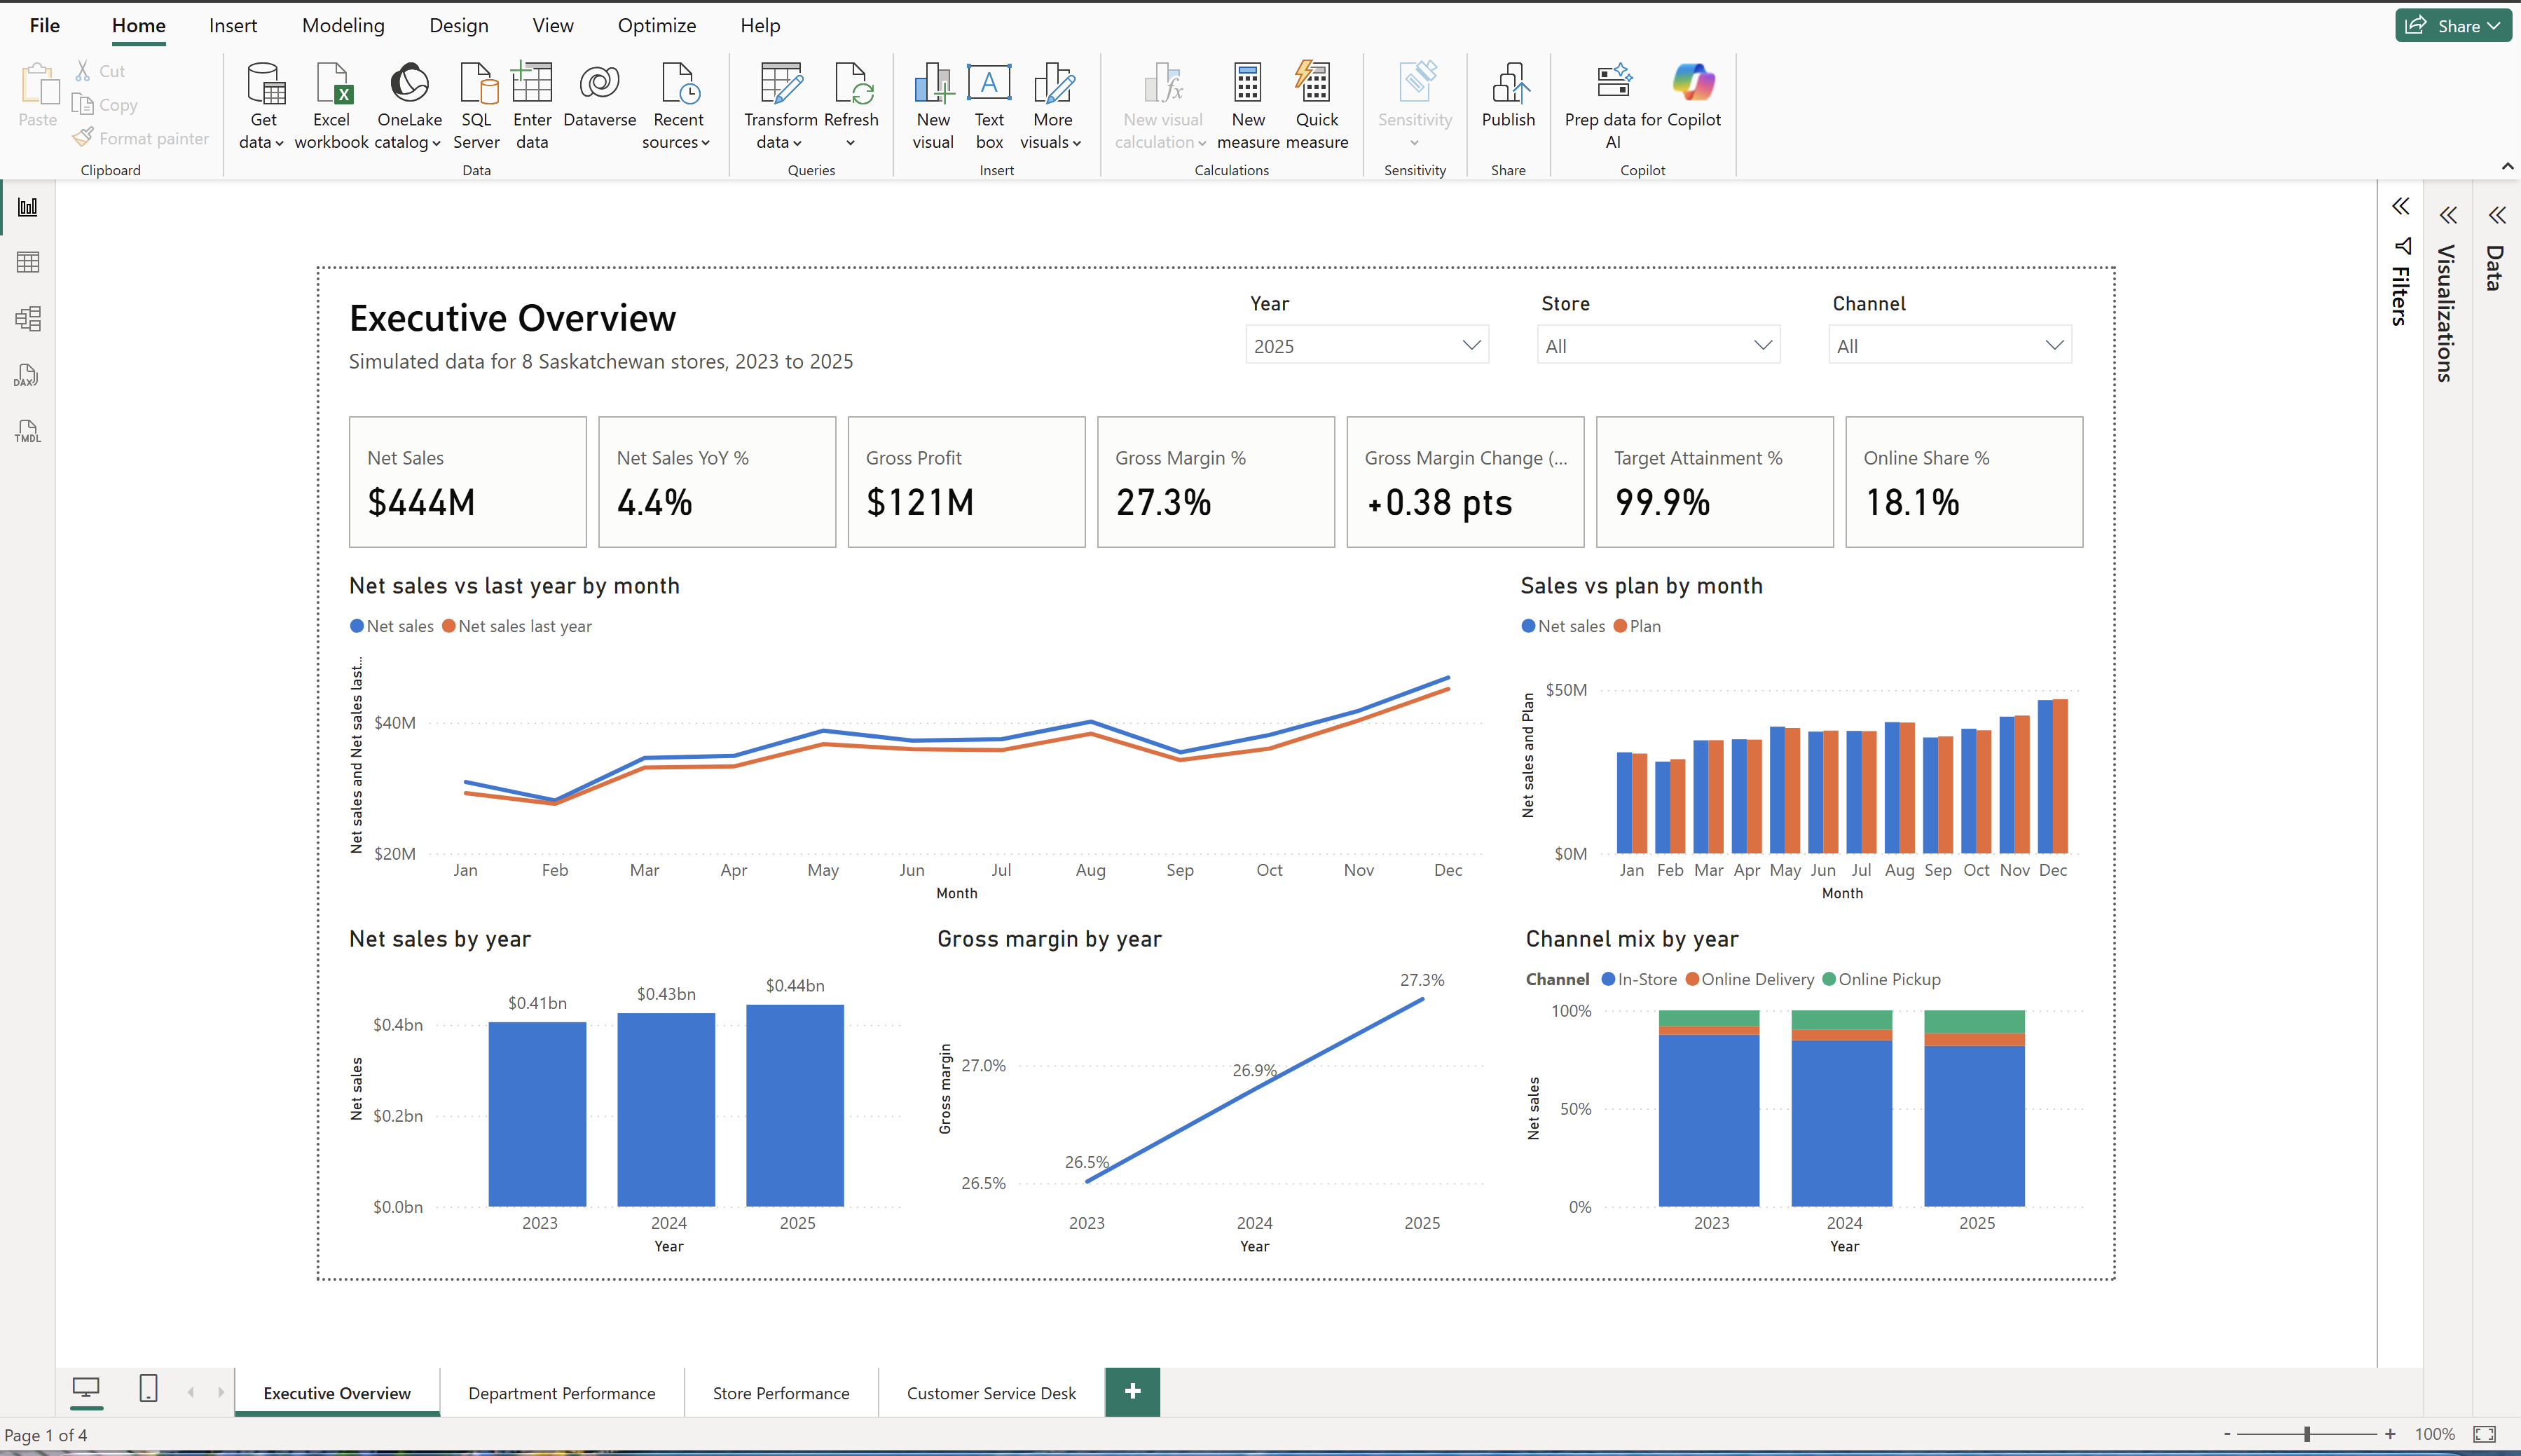

This screenshot's page, from the dashboard's own definition file:
{"tool":"powerbi","page":{"name":"Executive Overview","canvas":[1280,720],"ordinal":0},"visuals":[{"type":"textbox","box":[16.3,10.3,600,54],"z":1000},{"type":"textbox","box":[16.3,49.7,600,37.7],"z":2000},{"type":"slicer","fields":{"Values":["dim_date.year"]},"box":[648,8,200,80],"z":3000},{"type":"slicer","fields":{"Values":["dim_store.store_name"]},"box":[856,8,200,80],"z":4000},{"type":"slicer","fields":{"Values":["dim_channel.channel_name"]},"box":[1064,8,200,80],"z":5000},{"type":"cardVisual","fields":{"Data":["_Measures.Net Sales","_Measures.Net Sales YoY %","_Measures.Gross Profit","_Measures.Gross Margin %","_Measures.Gross Margin Change (pts)","_Measures.Target Attainment %","_Measures.Online Share %"]},"box":[16,100,1248,104],"z":6000},{"type":"lineChart","title":"Net sales vs last year by month","fields":{"Category":["dim_date.month_name"],"Y":["_Measures.Net Sales","_Measures.Net Sales PY"]},"box":[16,216,820,240],"z":7000},{"type":"clusteredColumnChart","title":"Sales vs plan by month","fields":{"Category":["dim_date.month_name"],"Y":["_Measures.Net Sales (All Depts & Channels)","_Measures.Sales Target"]},"box":[852,216,412,240],"z":8000},{"type":"clusteredColumnChart","title":"Net sales by year","fields":{"Category":["dim_date.year"],"Y":["_Measures.Net Sales"]},"box":[16,468,404,240],"z":9000},{"type":"lineChart","title":"Gross margin by year","fields":{"Category":["dim_date.year"],"Y":["_Measures.Gross Margin %"]},"box":[436,468,404,240],"z":10000},{"type":"hundredPercentStackedColumnChart","title":"Channel mix by year","fields":{"Category":["dim_date.year"],"Series":["dim_channel.channel_name"],"Y":["_Measures.Net Sales"]},"box":[856,468,408,240],"z":11000}]}

Visuals, with their boxes on the page's 1280x720 design canvas (x1, y1, x2, y2). These are canvas units, not pixel positions in the 2521x1456 screenshot, which may show the page scaled, cropped or inside an application window:
textbox: {"x1": 16, "y1": 10, "x2": 616, "y2": 64}
textbox: {"x1": 16, "y1": 50, "x2": 616, "y2": 87}
slicer - dim_date.year: {"x1": 648, "y1": 8, "x2": 848, "y2": 88}
slicer - dim_store.store_name: {"x1": 856, "y1": 8, "x2": 1056, "y2": 88}
slicer - dim_channel.channel_name: {"x1": 1064, "y1": 8, "x2": 1264, "y2": 88}
cardVisual - _Measures.Net Sales x _Measures.Net Sales YoY %: {"x1": 16, "y1": 100, "x2": 1264, "y2": 204}
"Net sales vs last year by month" lineChart: {"x1": 16, "y1": 216, "x2": 836, "y2": 456}
"Sales vs plan by month" clusteredColumnChart: {"x1": 852, "y1": 216, "x2": 1264, "y2": 456}
"Net sales by year" clusteredColumnChart: {"x1": 16, "y1": 468, "x2": 420, "y2": 708}
"Gross margin by year" lineChart: {"x1": 436, "y1": 468, "x2": 840, "y2": 708}
"Channel mix by year" hundredPercentStackedColumnChart: {"x1": 856, "y1": 468, "x2": 1264, "y2": 708}
